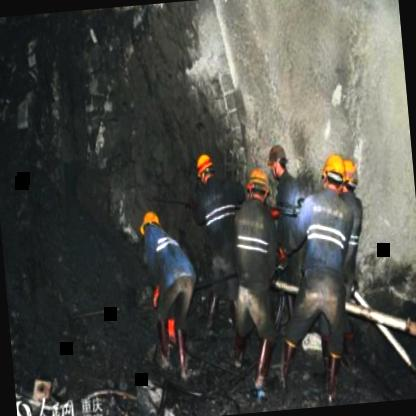helmet: (320, 152, 347, 196), (245, 166, 272, 207), (264, 139, 291, 180), (139, 206, 166, 244), (194, 150, 218, 186), (340, 155, 361, 196)
